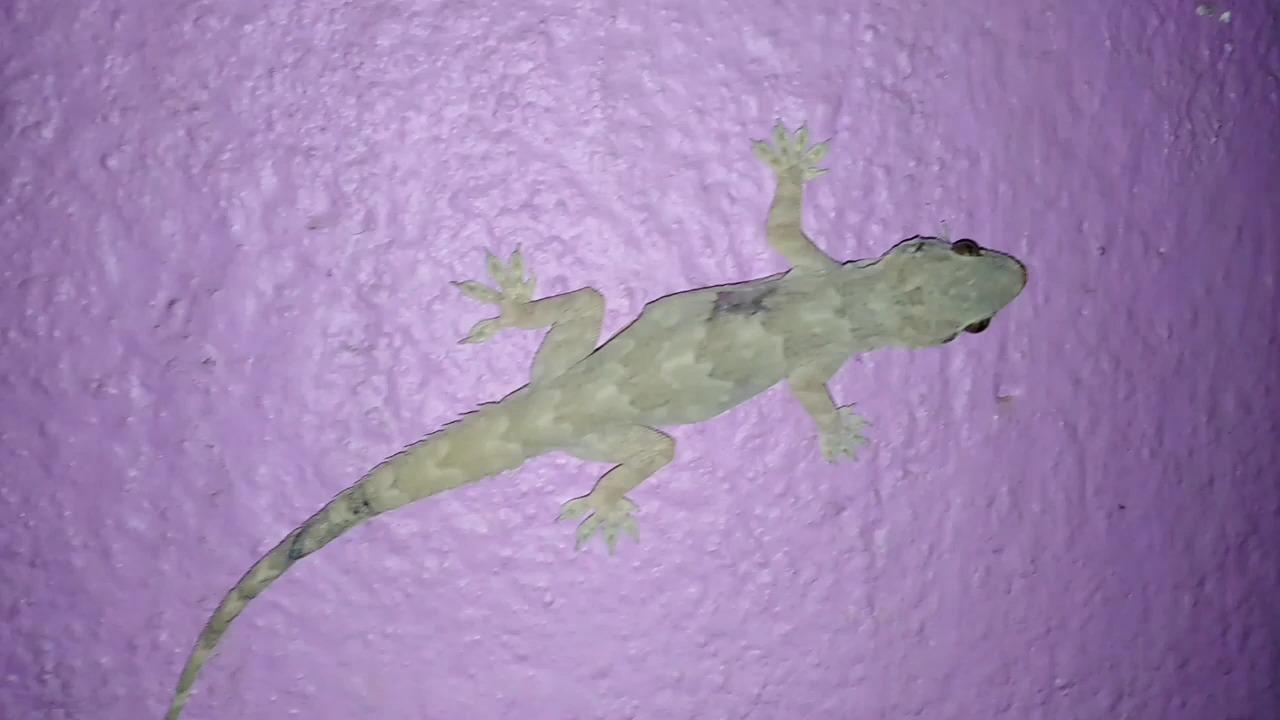lizard: (130, 112, 1037, 720)
